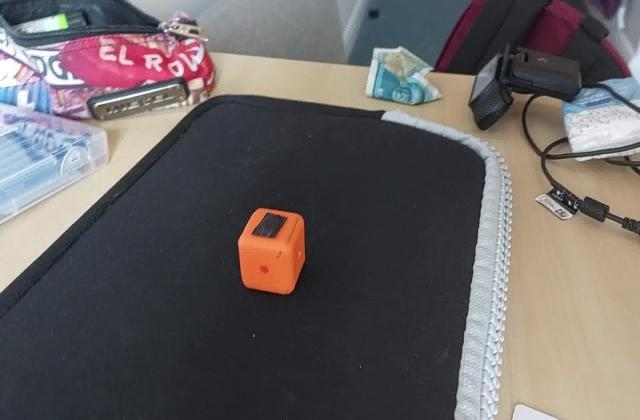black: (261, 210, 287, 243)
cube: (238, 206, 310, 296)
